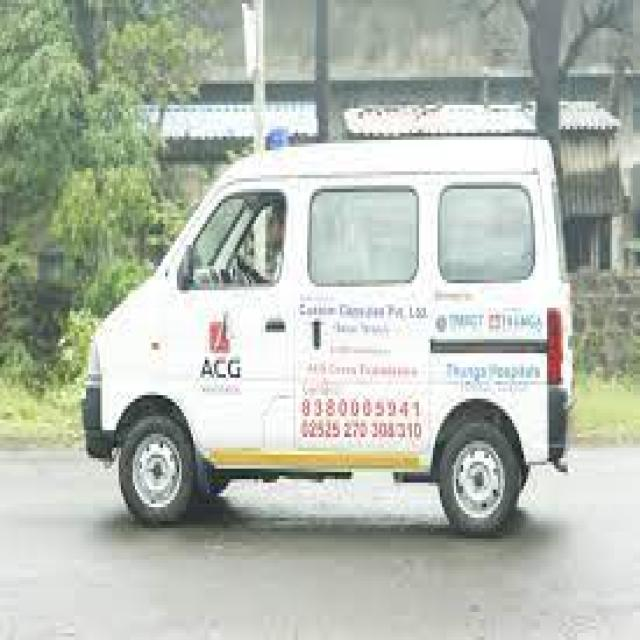emergency-vehicle: (79, 129, 570, 535)
